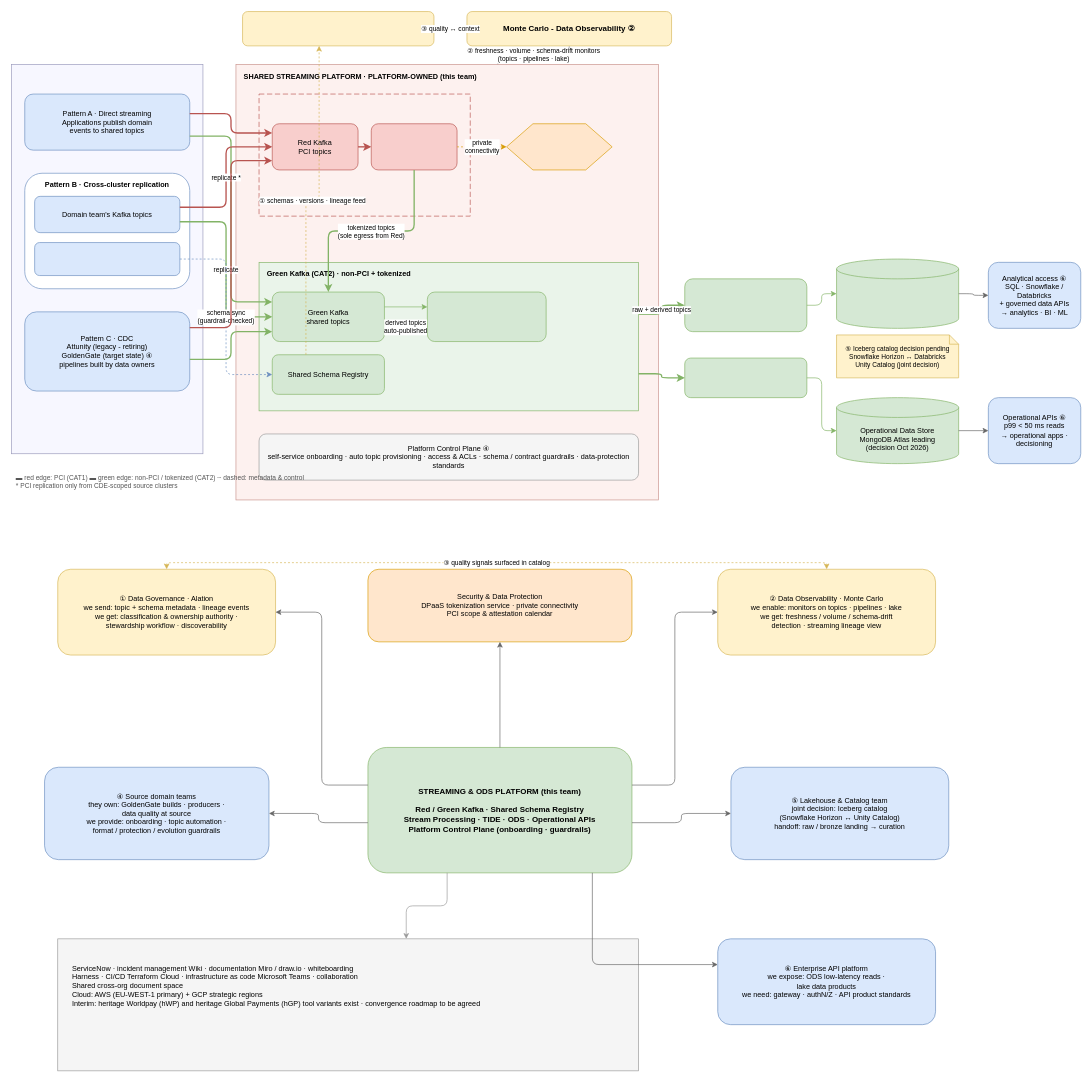
The diagram is 1092 pixels wide and 1082 high, and some of its shapes have lost their labels. The shapes that lost their labels are listed below. From the top down, each one's box as (x1, y1, x2, y2) in pixels, then its label:
(242, 11, 434, 46): Alation - Data Catalog & Governance ①
(258, 93, 470, 216): CDE (CAT1) · PCI-classified flows only
(371, 123, 457, 170): PCI Tokenization (API / SDK)
(506, 123, 612, 170): DPaaS - enterprise tokenization service (external)
(34, 242, 180, 276): Domain Schema Registry
(11, 64, 203, 454): SOURCE-OWNED · PUBLISHING PATTERNS
(684, 278, 807, 332): TIDE Topic-to-Iceberg delivery (engine under evaluation)
(836, 258, 959, 328): Open Data Lake Iceberg on S3 raw / bronze landing
(427, 291, 546, 342): Stream Processing (Green only)
(684, 357, 807, 398): ODS sink connectors
(57, 938, 639, 1071): ⑦ Shared enterprise tooling & cloud foundation
